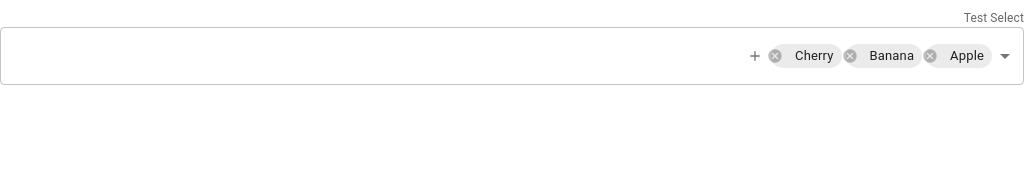
Test: IpsChipSelect › chip overflow › should expand all chips when the plus toggle is clicked
Click the button named "+1": (755,56) [743, 44, 767, 68]
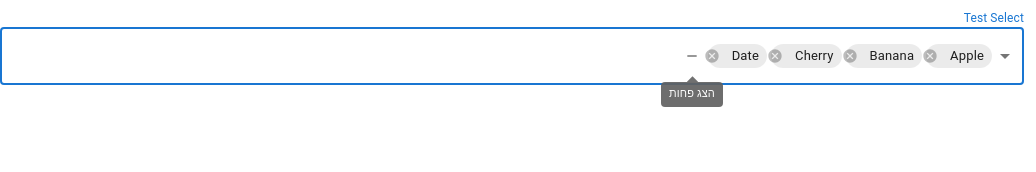
Now the text "Date" is shown, box [732, 48, 759, 63]
Now the button named "הצג פחות" is shown, box [680, 44, 704, 68]
